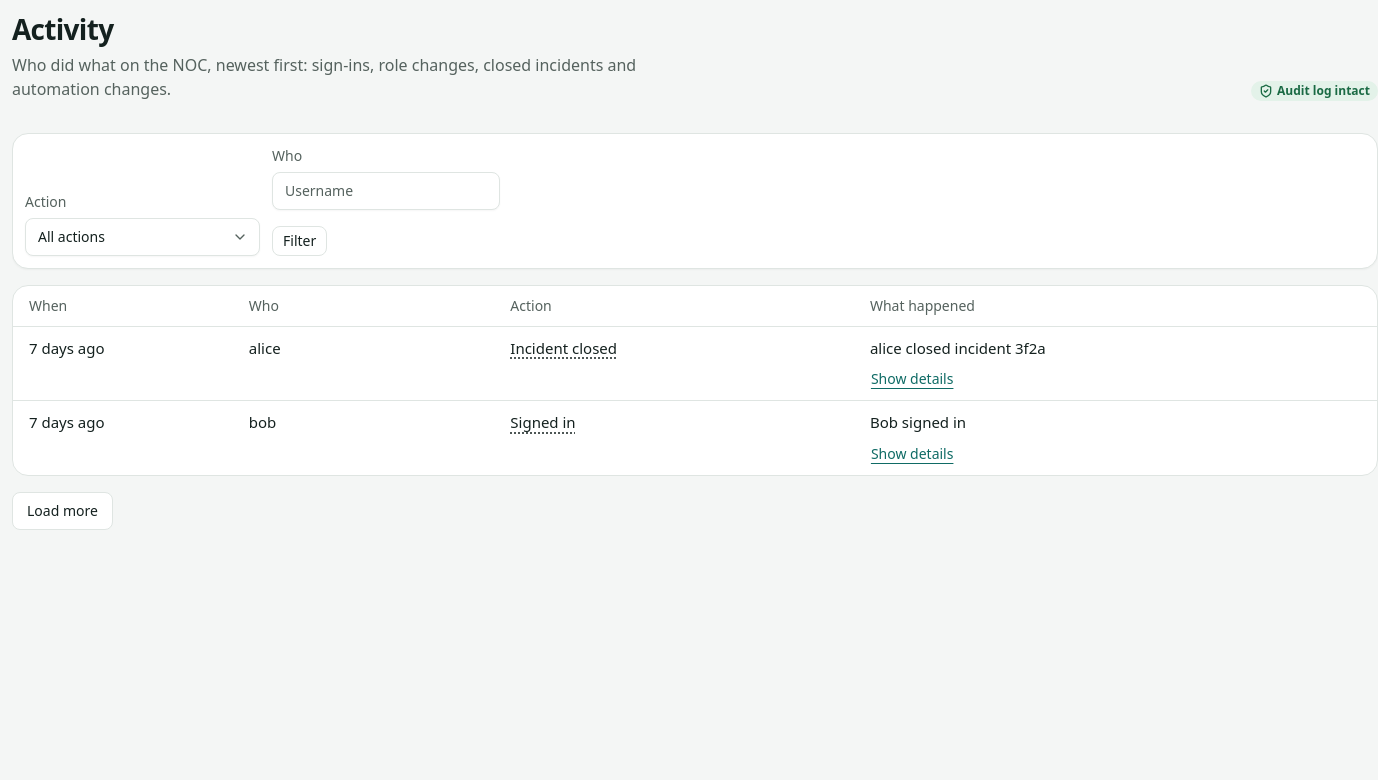
Test: ActivityPage › shows the first page and appends the next one on Load more
Expected: the text "alice closed incident 3f2a" is shown, [870,338,1046,358]
Expected: the text "Bob signed in" is shown, [870,412,966,432]
Click the button "Load more".
click(62, 510)  # box [12,492,113,530]
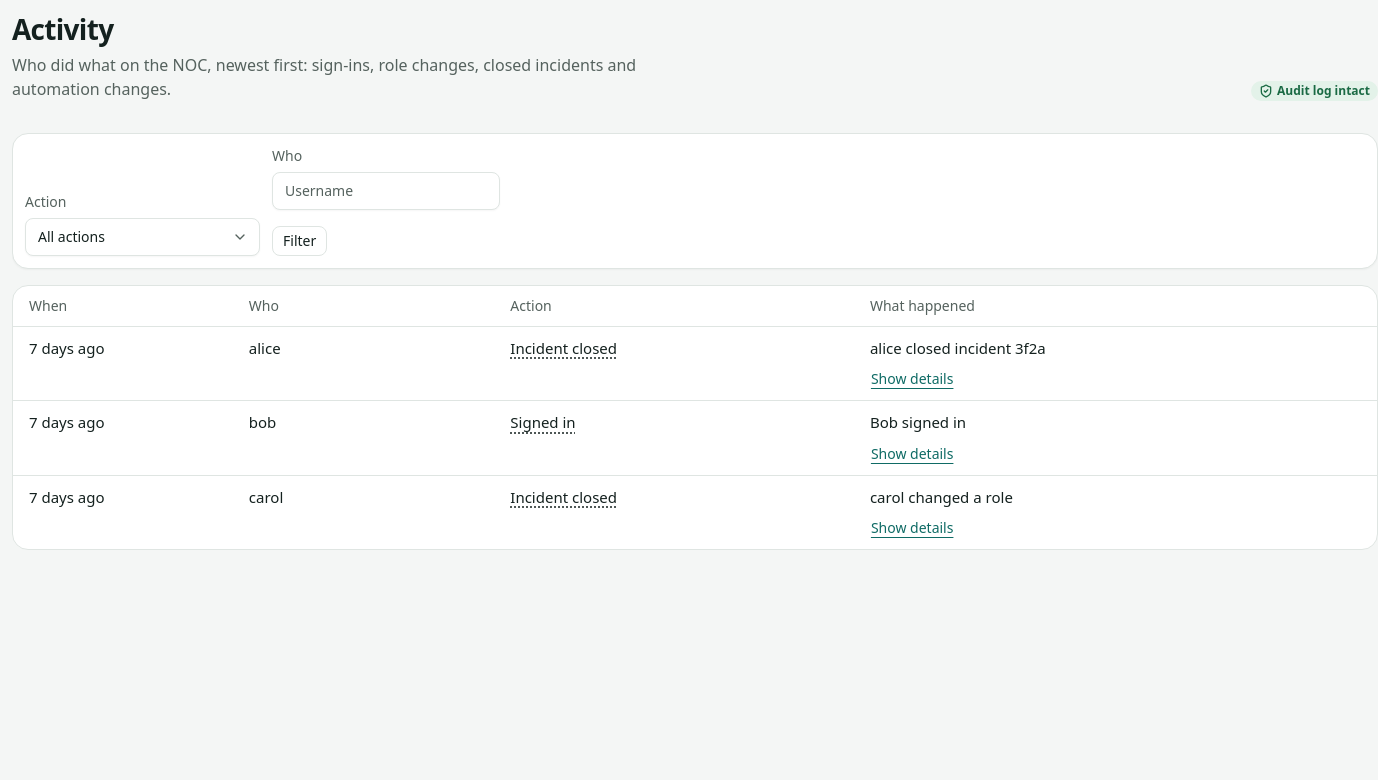
Expected: the number of rows is 4, [13,286,1377,326]; [13,327,1377,401]; [13,401,1377,475]; [13,475,1377,549]
Expected: the text "carol changed a role" is shown, [870,486,1013,506]
Expected: the button "Load more" is gone
